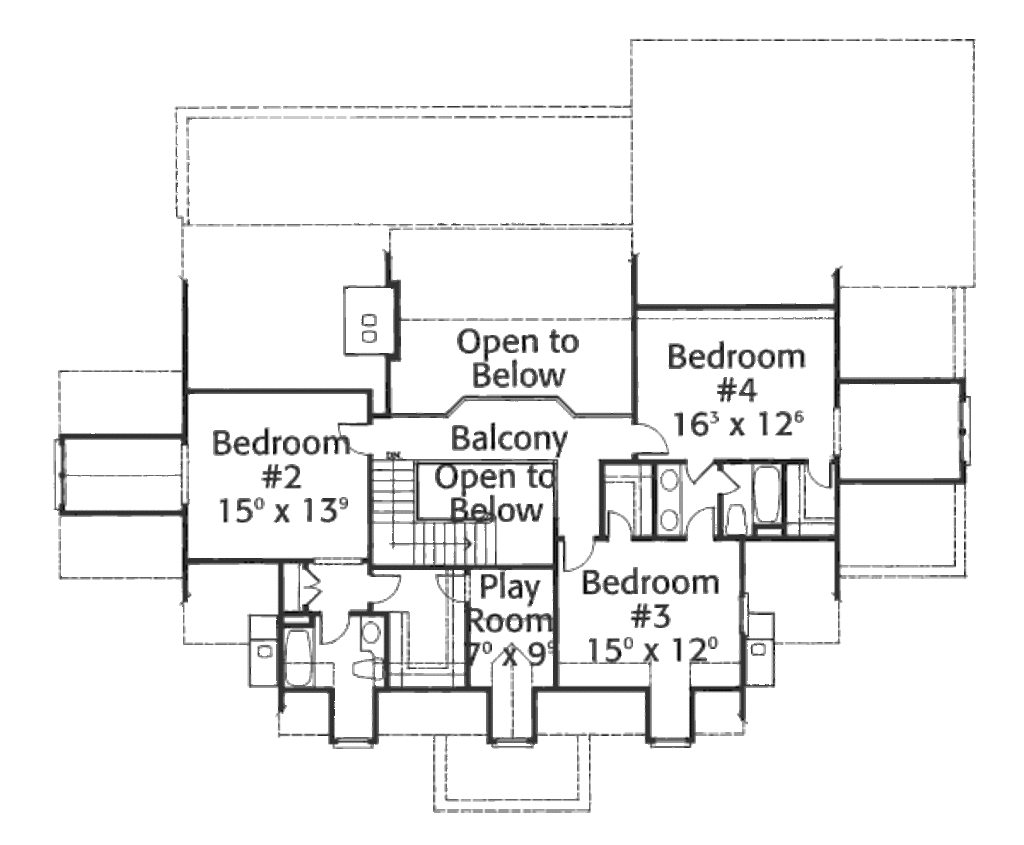door: (559, 534, 595, 576), (365, 570, 405, 607), (633, 422, 669, 457), (686, 502, 717, 541), (337, 420, 372, 453), (315, 613, 350, 645), (684, 458, 718, 486), (603, 508, 632, 540), (303, 566, 325, 603), (805, 459, 833, 488), (716, 463, 741, 495)
large_sink: (720, 502, 757, 541), (345, 655, 387, 685)
small_sink: (655, 465, 681, 533), (356, 616, 387, 655)
stairs: (367, 457, 500, 572)
tub: (280, 626, 318, 694), (753, 463, 784, 524)
window: (331, 733, 378, 750), (648, 736, 695, 751), (492, 734, 534, 750)
